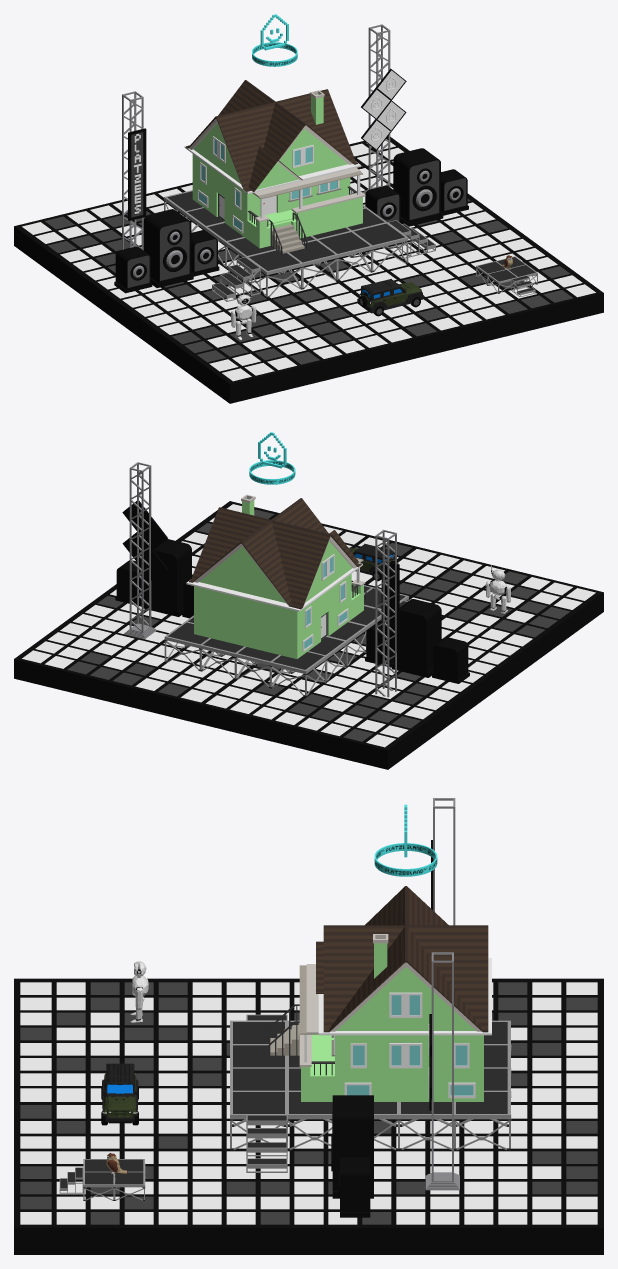
3 renders of one model, top to bottom at view 1: azimuth 30°, elevation 25°; view 2: azimuth 150°, elevation 25°; view 3: azimuth 270°, elevation 25°, orthographic. The views are drawn at different scales.
Parts seen in each view (by area): view 1: Cube.008, Cube.274, VEHICLES_JEEP, TYPE_PREMIUM, OBJRANDOM_PLATZEEBOT; view 2: Cube.008, Cube.274, TYPE_PREMIUM, VEHICLES_JEEP, OBJRANDOM_PLATZEEBOT; view 3: Cube.008, Cube.274, VEHICLES_JEEP, TYPE_PREMIUM, OBJRANDOM_PLATZEEBOT.
Boxes of the visible parts, x1,y1,x2,y2 form: Cube.008: (14,24,603,403); Cube.274: (184,80,365,254); VEHICLES_JEEP: (357,279,423,316); TYPE_PREMIUM: (252,14,297,66); OBJRANDOM_PLATZEEBOT: (231,290,256,339); Cube.008: (14,462,603,769); Cube.274: (186,494,366,658); TYPE_PREMIUM: (249,432,295,484); VEHICLES_JEEP: (348,543,398,581); OBJRANDOM_PLATZEEBOT: (485,565,510,613); Cube.008: (14,798,603,1254); Cube.274: (268,886,491,1101); VEHICLES_JEEP: (101,1063,138,1125); TYPE_PREMIUM: (374,804,437,876); OBJRANDOM_PLATZEEBOT: (130,961,148,1022).
Bounding box in the file's own units: 4000 × 2528 × 4000.
41 materials, 2 textured.
